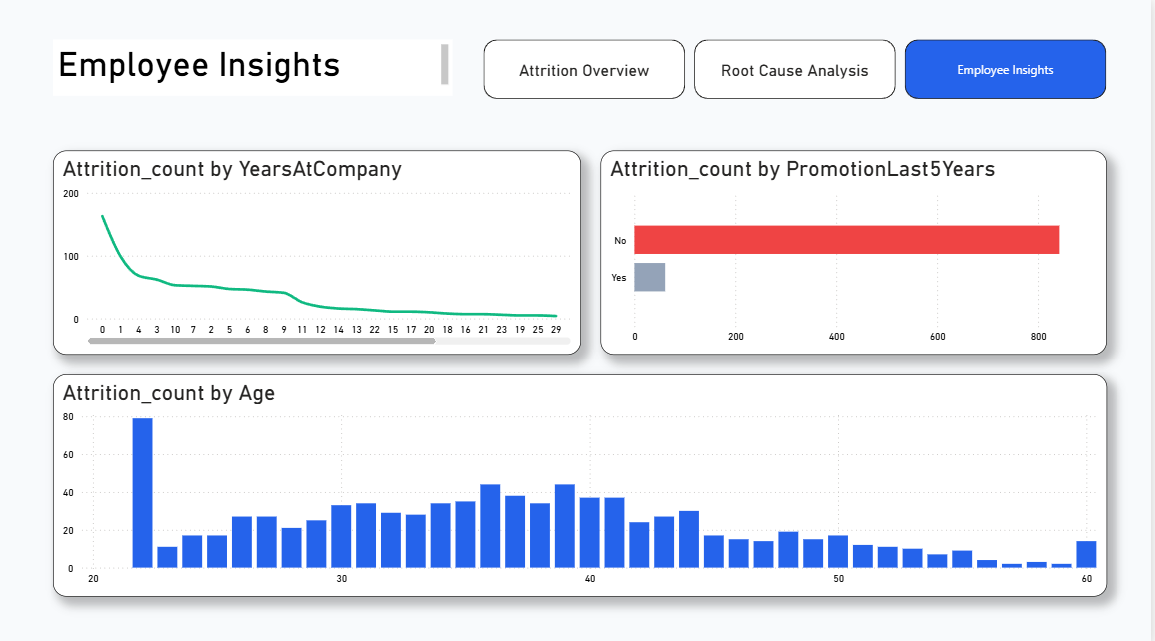

Layout of this report page (visuals, bound fields, positions):
{"tool":"powerbi","page":{"name":"Employee Insights","canvas":[1280,720],"ordinal":2},"visuals":[{"type":"textbox","box":[59.3,45.8,444.1,62.7],"z":1000},{"type":"columnChart","title":"Attrition_count by Age","fields":{"Category":["attrition_age.Age"],"Y":["Sum(attrition_age.attrition_count)"]},"box":[59.3,416.9,1171.2,247.5],"z":2000},{"type":"lineChart","title":"Attrition_count by YearsAtCompany","fields":{"Category":["attrition_experience.YearsAtCompany"],"Y":["Sum(attrition_experience.attrition_count)"]},"box":[59.3,167.8,586.4,227.1],"z":3000},{"type":"barChart","title":"Attrition_count by PromotionLast5Years","fields":{"Category":["attrition_promotion.PromotionLast5Years"],"Y":["Sum(attrition_promotion.attrition_count)"]},"box":[667.8,167.8,562.7,227.1],"z":4000},{"type":"pageNavigator","box":[538.3,45,693.3,66.7],"z":4001}]}

Visuals, with their boxes in screenshot pixels (x1, y1, x2, y2), scaled from the page's 1280x720 canvas onto the 1155x641 screenshot:
textbox: 54 41 454 97
"Attrition_count by Age" columnChart: 54 371 1110 592
"Attrition_count by YearsAtCompany" lineChart: 54 149 583 352
"Attrition_count by PromotionLast5Years" barChart: 603 149 1110 352
pageNavigator: 486 40 1111 99
